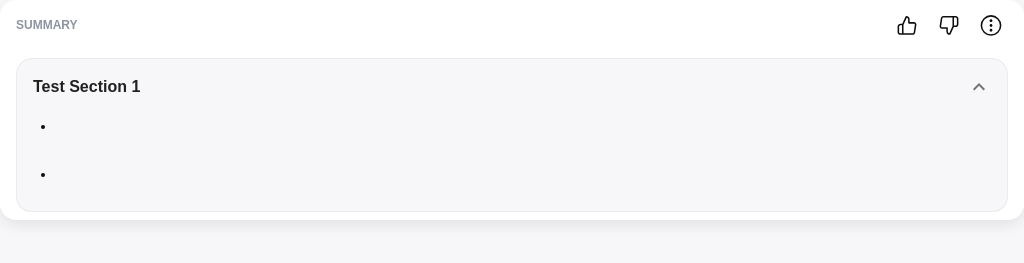
Test: SummarySection Component › Section Management › opens section filter menu
Click the 3rd button: click(991, 25) top-left (974, 8), bottom-right (1008, 42)
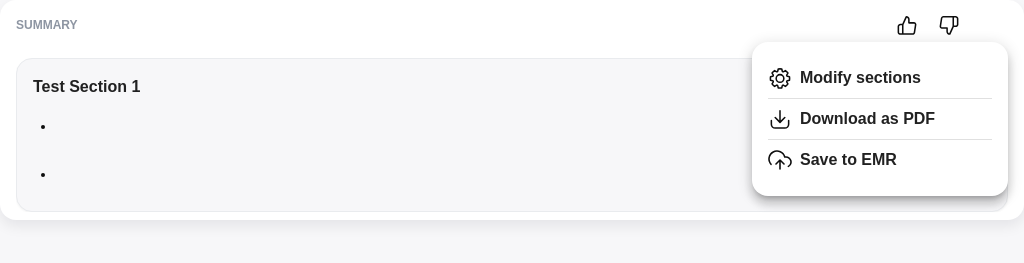
Click the button "Modify sections": click(880, 78) top-left (768, 58), bottom-right (992, 99)
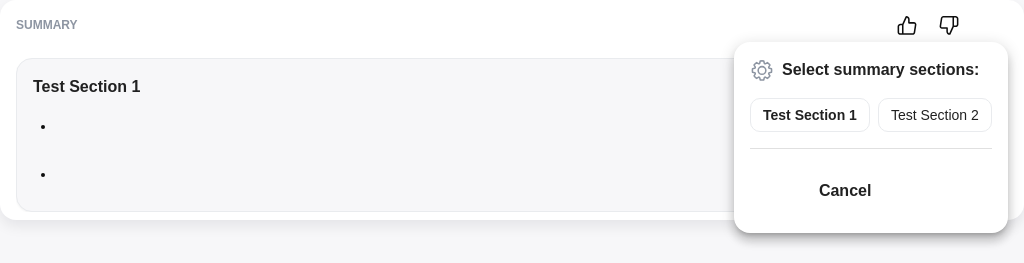
Now the heading "Select summary sections:" is shown, box top-left (782, 58), bottom-right (979, 82)
